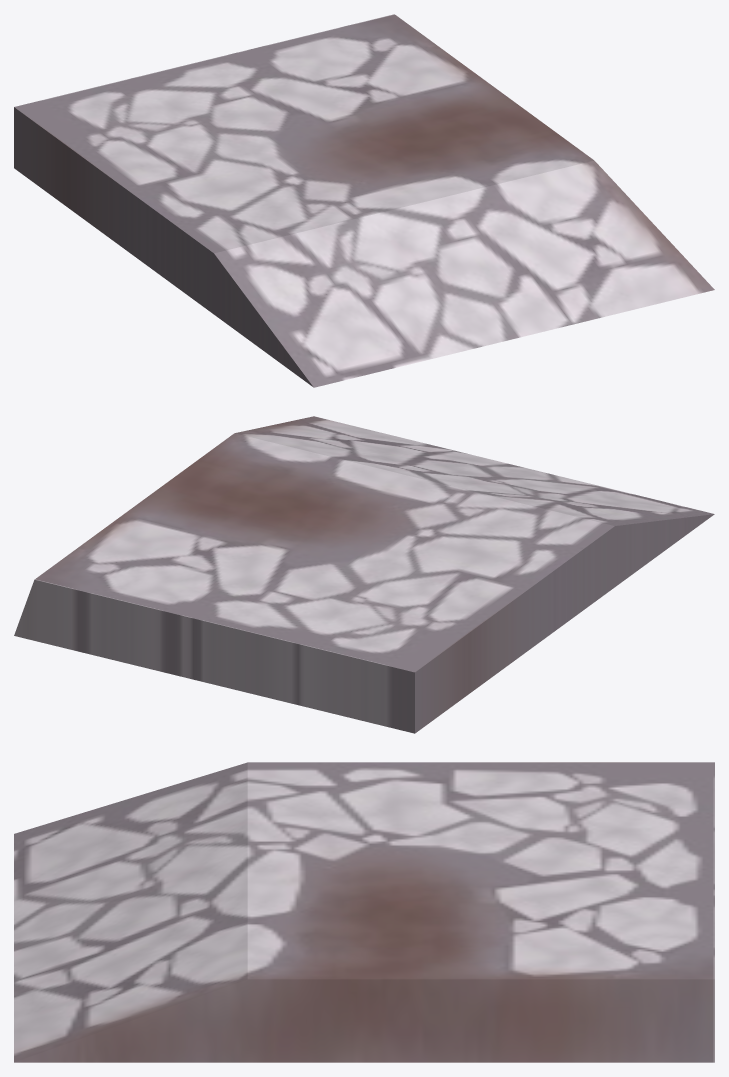
Rendered from ground_mount.fbx.
The picture shows the model from 3 angles, top to bottom: view 1: azimuth 30°, elevation 25°; view 2: azimuth 150°, elevation 25°; view 3: azimuth 270°, elevation 25°; orthographic projection. The views are drawn at different scales.
Visible parts, largest first — view 1: polySurface212; view 2: polySurface212; view 3: polySurface212.
Part boxes in pixels (x1=…): polySurface212: x1=14, y1=14, x2=714, y2=387; polySurface212: x1=14, y1=416, x2=714, y2=733; polySurface212: x1=14, y1=762, x2=714, y2=1062.
Bounding box in the file's own units: 1389 × 203 × 1800.
